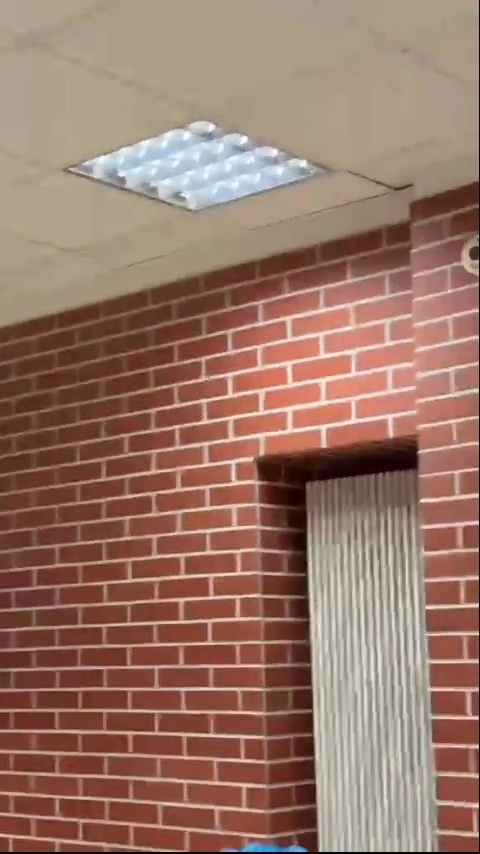drone: (215, 832, 308, 854)
